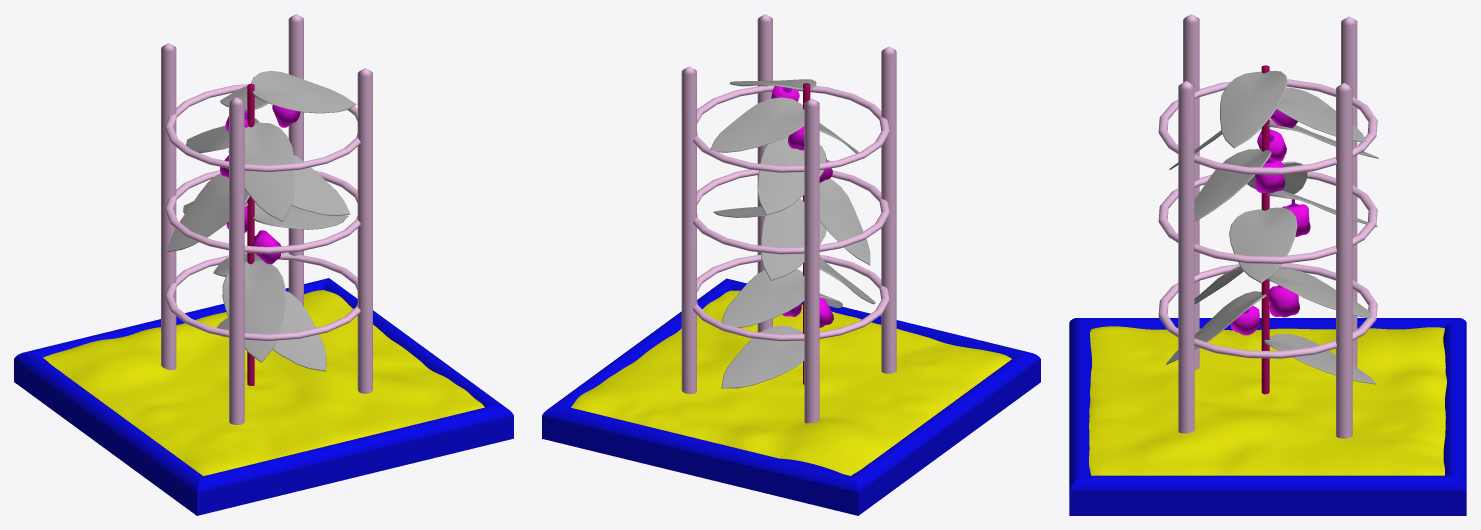
File: Stage_3.fbx
3 views of the same model, side by side, from view 1: azimuth 30°, elevation 25°; view 2: azimuth 150°, elevation 25°; view 3: azimuth 270°, elevation 25° (orthographic). The views are drawn at different scales.
Parts seen in each view (by area): view 1: Dirt2, Bed2, Pepper_Cage_2, Leaf_3, Leaf_10, Leaf_5, Leaf_7, Leaf_1, Leaf_8, Leaf_4, Pepper_Stem_Stage_2, Leaf_11; view 2: Dirt2, Pepper_Cage_2, Bed2, Leaf_6, Leaf_12, Leaf_9, Leaf_11, Leaf_2, Leaf_7, Leaf_5; view 3: Dirt2, Bed2, Pepper_Cage_2, Leaf_5, Leaf_4, Leaf_8, Leaf_6, Leaf_9, Leaf_12, Pepper_Stem_Stage_2, Leaf_1, Base6 (+6 smaller).
Part boxes in pixels (bbox=[...]): Dirt2: bbox=[43, 290, 484, 475]; Bed2: bbox=[14, 278, 513, 515]; Pepper_Cage_2: bbox=[161, 14, 372, 424]; Leaf_3: bbox=[228, 122, 294, 221]; Leaf_10: bbox=[222, 260, 285, 362]; Leaf_5: bbox=[250, 70, 356, 113]; Leaf_7: bbox=[167, 173, 249, 252]; Leaf_1: bbox=[272, 291, 326, 371]; Leaf_8: bbox=[291, 155, 350, 215]; Leaf_4: bbox=[253, 202, 348, 229]; Pepper_Stem_Stage_2: bbox=[247, 84, 254, 385]; Leaf_11: bbox=[186, 118, 259, 153]; Dirt2: bbox=[571, 290, 1011, 475]; Pepper_Cage_2: bbox=[681, 14, 896, 423]; Bed2: bbox=[542, 278, 1040, 515]; Leaf_6: bbox=[710, 97, 804, 152]; Leaf_12: bbox=[721, 325, 804, 388]; Leaf_9: bbox=[721, 269, 804, 328]; Leaf_11: bbox=[757, 136, 826, 215]; Leaf_2: bbox=[761, 199, 826, 280]; Leaf_7: bbox=[819, 178, 870, 265]; Leaf_5: bbox=[730, 79, 816, 89]; Dirt2: bbox=[1089, 326, 1446, 475]; Bed2: bbox=[1069, 318, 1466, 515]; Pepper_Cage_2: bbox=[1158, 14, 1377, 438]; Leaf_5: bbox=[1220, 71, 1287, 148]; Leaf_4: bbox=[1229, 207, 1297, 283]; Leaf_8: bbox=[1194, 149, 1271, 221]; Leaf_6: bbox=[1276, 87, 1366, 142]; Leaf_9: bbox=[1267, 268, 1376, 318]; Leaf_12: bbox=[1263, 334, 1376, 384]; Pepper_Stem_Stage_2: bbox=[1261, 65, 1269, 394]; Leaf_1: bbox=[1166, 291, 1266, 364]; Base6: bbox=[1268, 285, 1299, 317].
Size of the model in its own units: 4.24 by 4.86 by 4.24.
